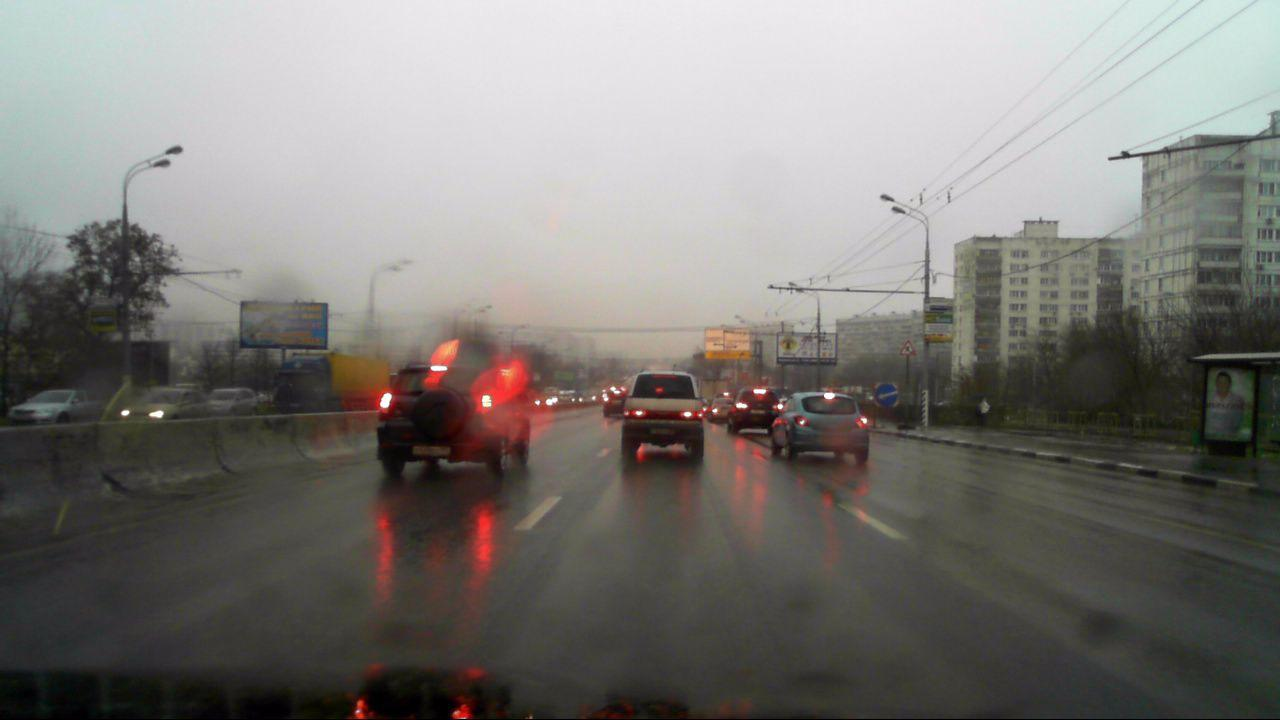road_sign: (875, 384, 899, 407)
